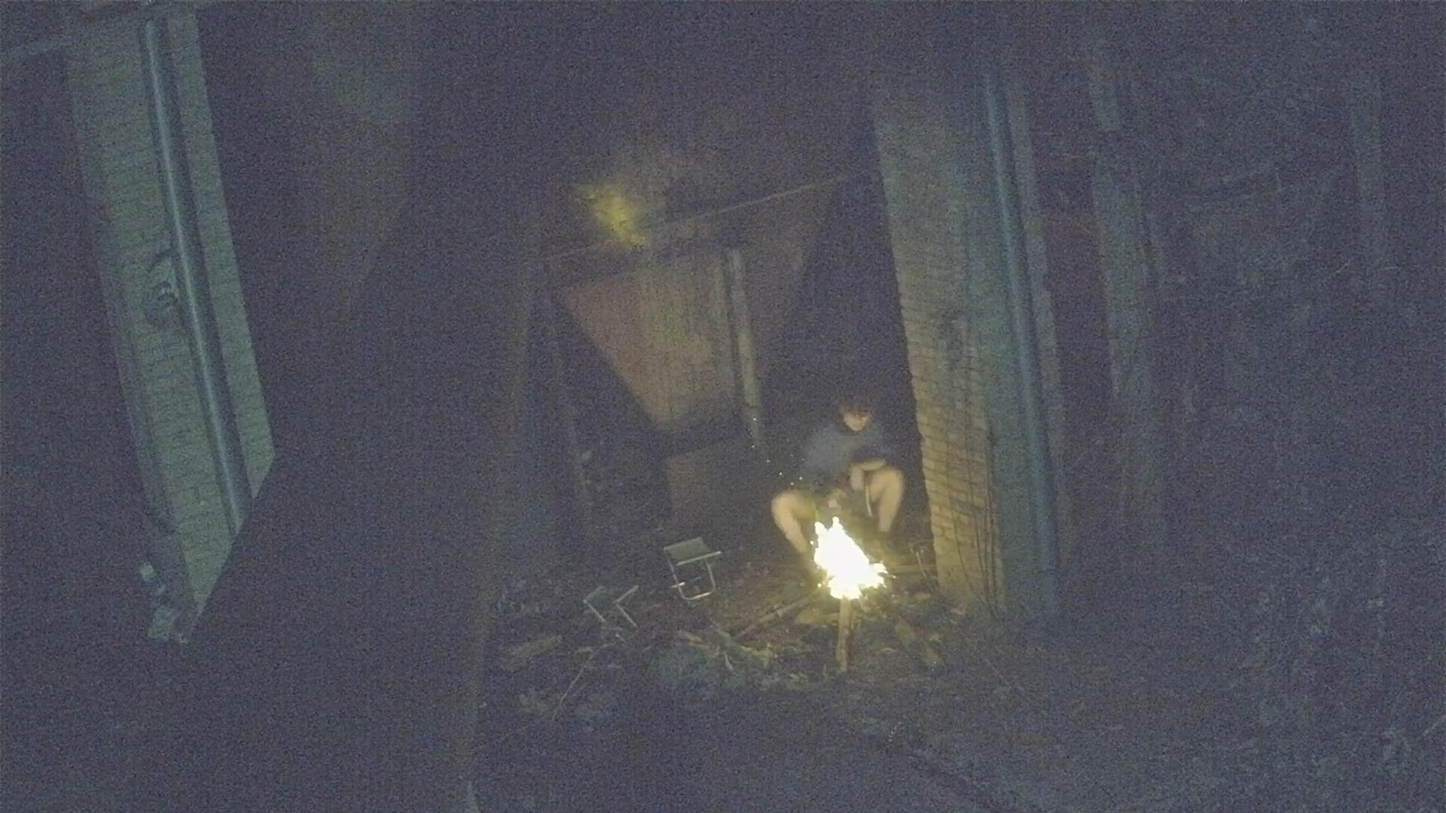fire: (814, 518, 885, 599)
